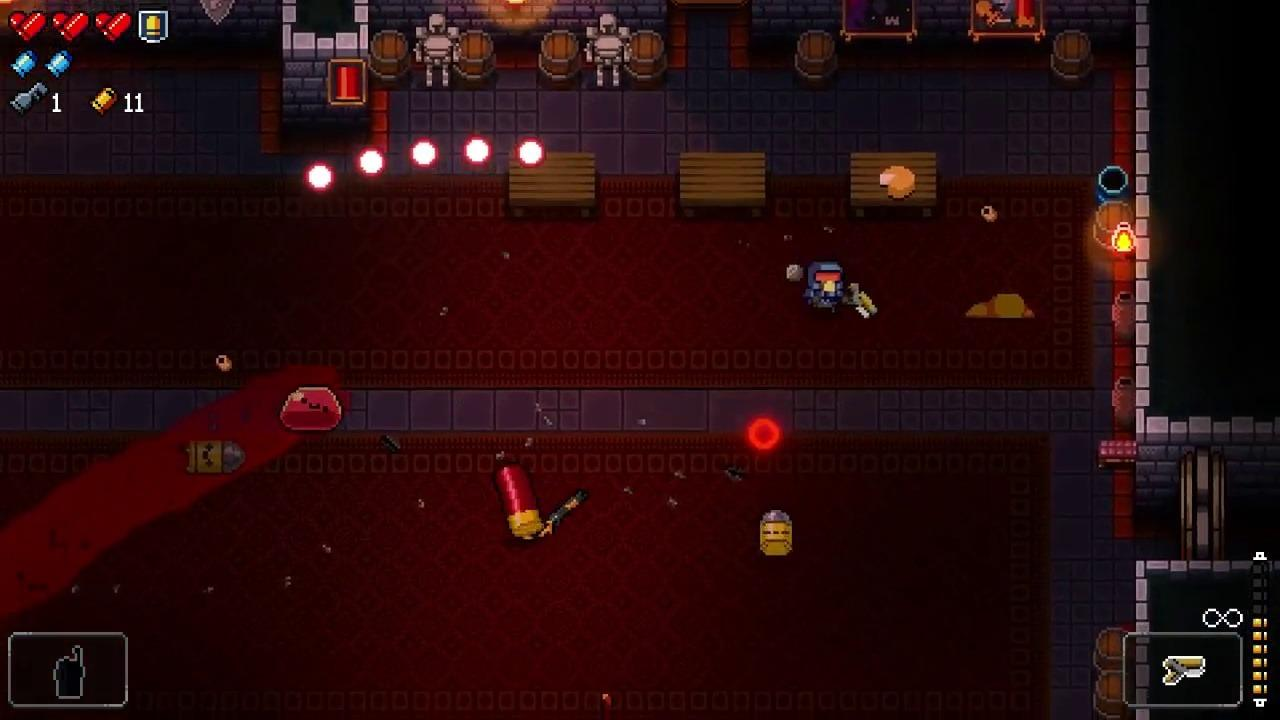blobulon_l: (281, 387, 343, 431)
bullet: (356, 148, 388, 178), (463, 136, 492, 165), (410, 139, 439, 167), (518, 138, 544, 167), (306, 163, 334, 189)
dead_apprentice_gunjurer: (966, 294, 1036, 316)
dead_bullet_kin: (186, 439, 247, 473), (758, 510, 793, 556)
locked_door: (1180, 447, 1226, 560)
player: (806, 260, 843, 313)
red_shotgun_kin: (491, 462, 543, 538)
table: (681, 152, 766, 218), (850, 152, 936, 217), (510, 153, 594, 218)
